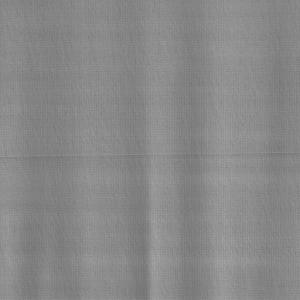Wrinkle: (109, 1, 300, 300), (1, 166, 73, 300)
